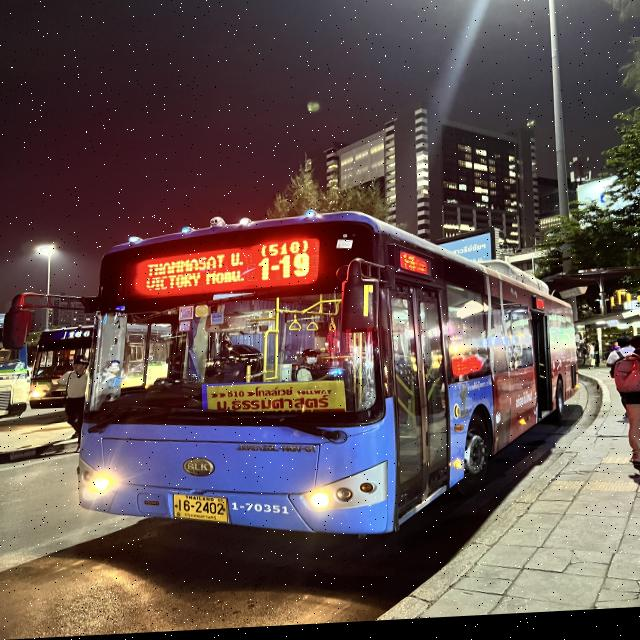BMTA-bus: (76, 216, 579, 542), (30, 328, 95, 425)
Bus Line Number: (254, 240, 316, 287)
Bus Side Number: (230, 497, 293, 525)
Destination Sign: (205, 380, 346, 425)
